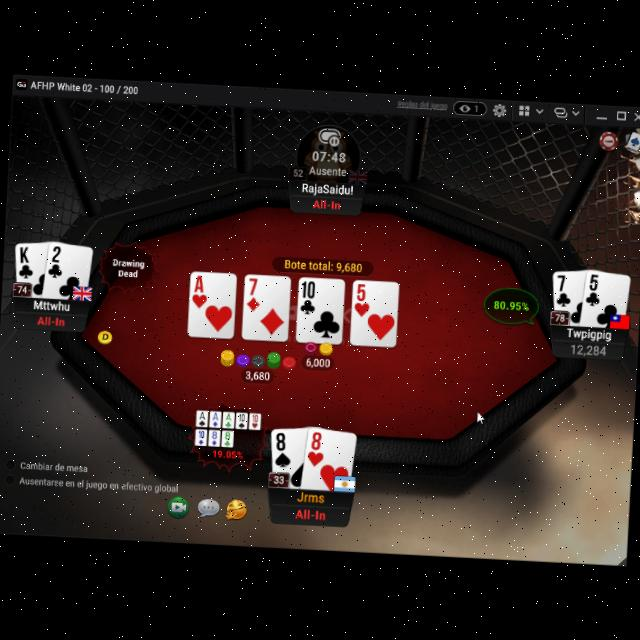2c: (46, 241, 66, 279)
3s: (306, 428, 328, 468)
5c: (584, 270, 604, 308)
5h: (353, 280, 373, 316)
6s: (272, 428, 294, 469)
7c: (554, 271, 574, 308)
7d: (245, 276, 261, 312)
8h: (306, 428, 328, 468)
8s: (273, 428, 295, 468)
Ah: (191, 271, 210, 308)
Kc: (16, 242, 36, 278)
Tc: (298, 277, 318, 316)
all_in_symbol: (294, 504, 328, 524), (311, 196, 343, 210), (37, 312, 66, 326)
bet_text: (242, 367, 272, 381), (304, 354, 332, 368)
dealer: (96, 326, 114, 344)
pot_text: (285, 258, 363, 272)
stack_text: (572, 342, 608, 356)
